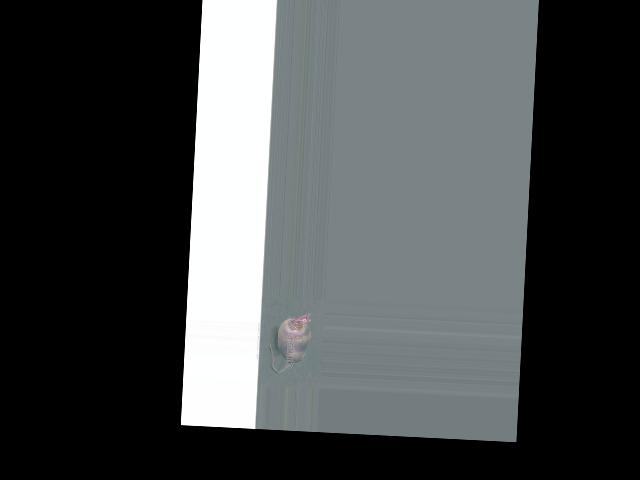beet: (268, 309, 312, 373)
